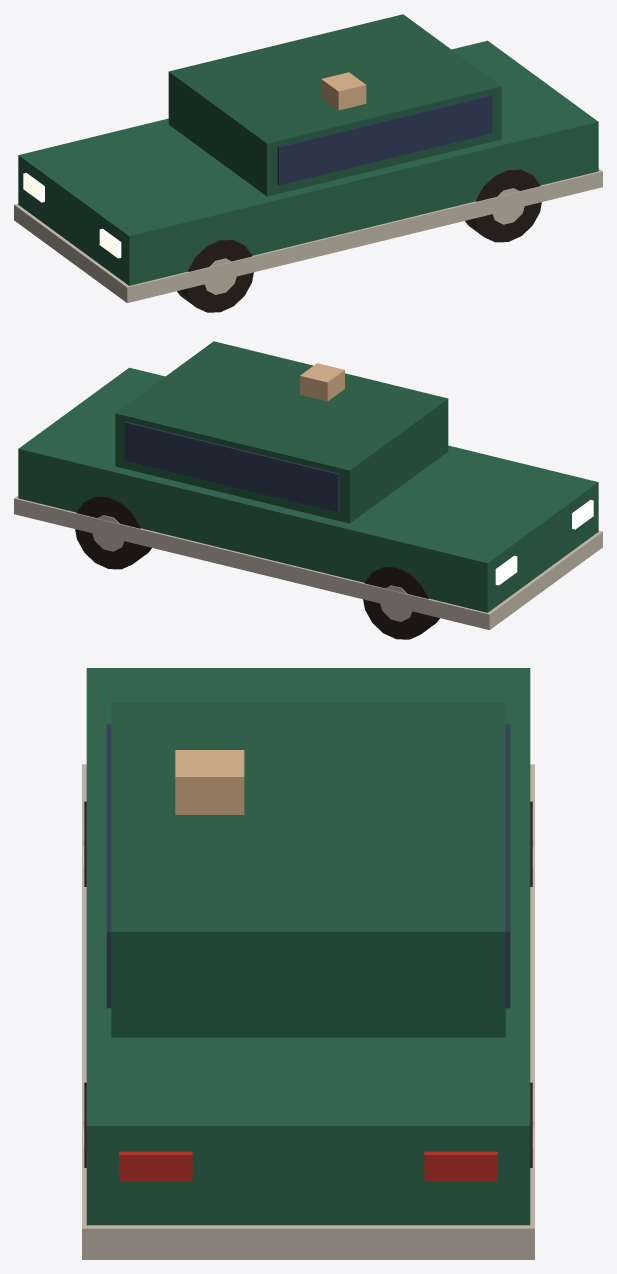
The model's file is traffic_2.glb.
3 renders of one model, top to bottom at view 1: azimuth 30°, elevation 25°; view 2: azimuth 150°, elevation 25°; view 3: azimuth 270°, elevation 25°, orthographic. The views are drawn at different scales.
Parts seen in each view (by area): view 1: Box1, Box2, Box4, Box3, Part2, Part4, Box10, Box7, Box5; view 2: Box1, Box2, Box4, Box3, Part1, Part3, Box10, Box5, Box7; view 3: Box2, Box1, Box4, Box10, Box3, Box6, Box8.
Boxes of the visible parts, x1,y1,x2,y2 form: Box1: (18,40,598,285); Box2: (168,14,501,196); Box4: (14,169,602,302); Box3: (277,94,492,185); Part2: (465,169,541,242); Part4: (177,240,253,312); Box10: (321,72,366,110); Box7: (99,228,121,258); Box5: (23,172,44,202); Box1: (18,367,598,612); Box2: (115,341,448,523); Box4: (14,496,602,629); Box3: (124,421,339,512); Part1: (75,496,151,569); Part3: (363,567,439,639); Box10: (300,363,344,401); Box5: (495,555,517,585); Box7: (572,499,593,529); Box2: (111,702,505,1037); Box1: (86,668,530,1225); Box4: (82,764,534,1259); Box10: (175,750,244,814); Box3: (106,724,510,1008); Box6: (424,1151,497,1181); Box8: (119,1151,192,1181).
Size of the model in its own units: 4.46 by 1.52 by 1.84.
